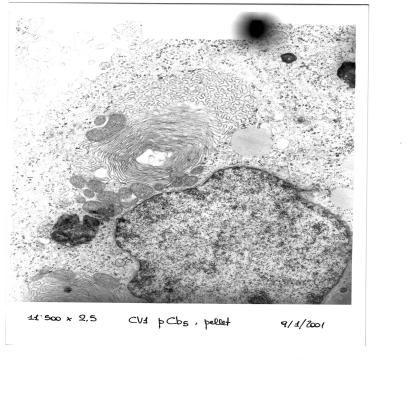mitochondria: (84, 114, 127, 142), (79, 201, 123, 217), (92, 272, 121, 289), (96, 191, 121, 204), (132, 184, 153, 199), (116, 197, 142, 209), (51, 269, 76, 281), (86, 179, 106, 192), (69, 174, 86, 188), (183, 176, 202, 186), (189, 166, 208, 175), (118, 187, 132, 198), (171, 176, 184, 187), (82, 189, 96, 198), (93, 115, 105, 125), (153, 182, 165, 191), (75, 198, 86, 204)
